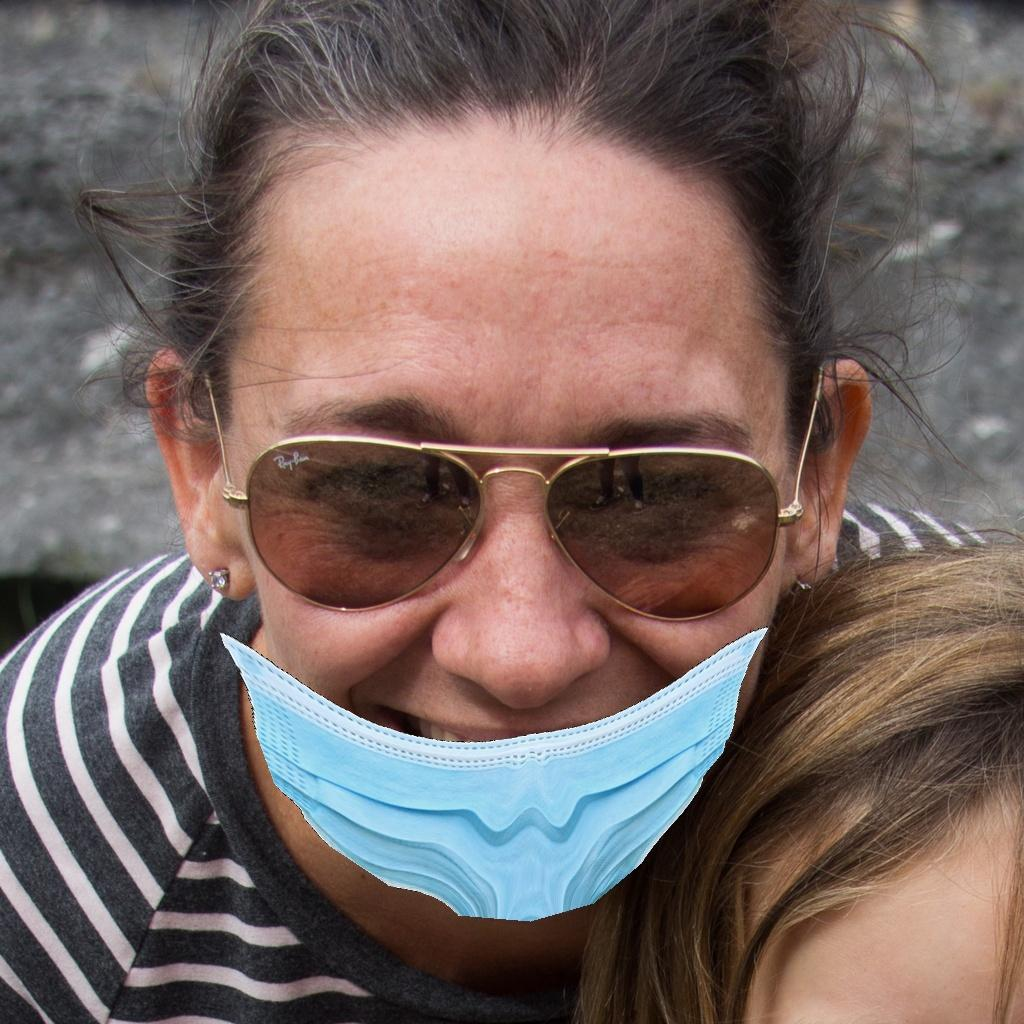Máscara Incorreta: (252, 340, 776, 913)
